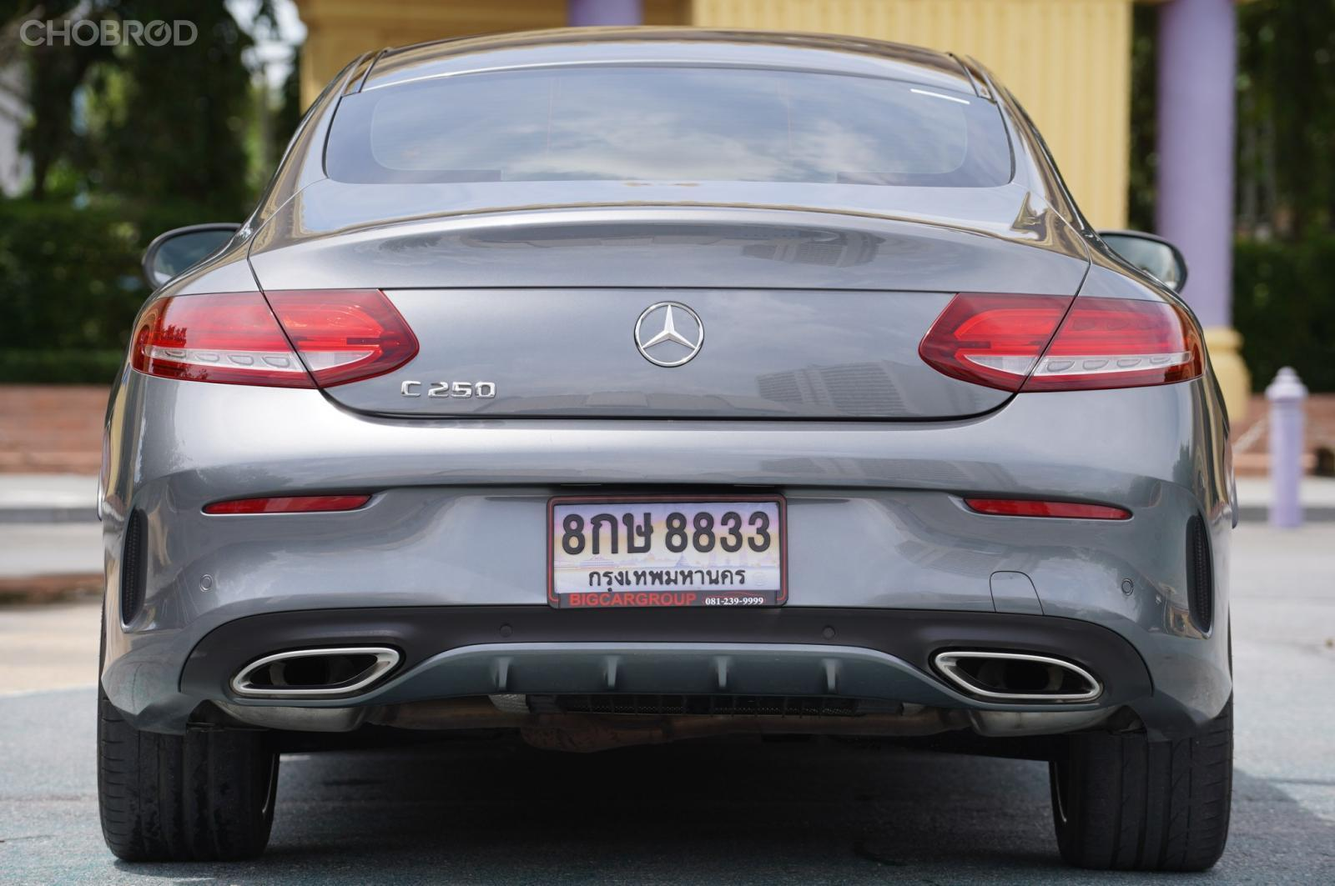license-plate: (544, 489, 796, 614)
